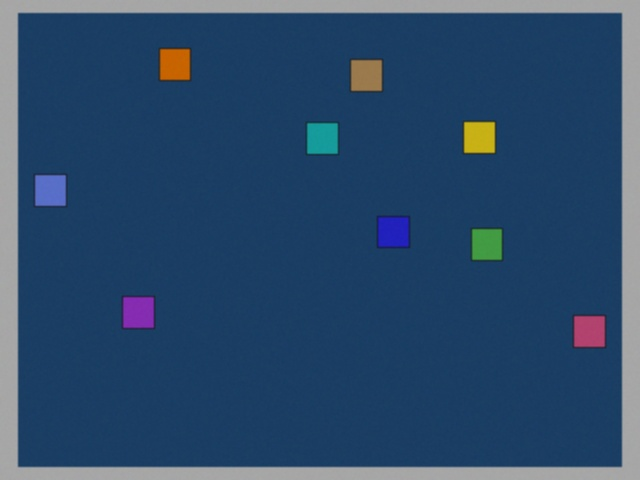block: (560, 311, 606, 347), (159, 49, 198, 89), (35, 175, 80, 208), (122, 294, 163, 329), (456, 122, 495, 158), (349, 59, 382, 99), (463, 229, 503, 261), (307, 123, 339, 160), (374, 216, 409, 248)
